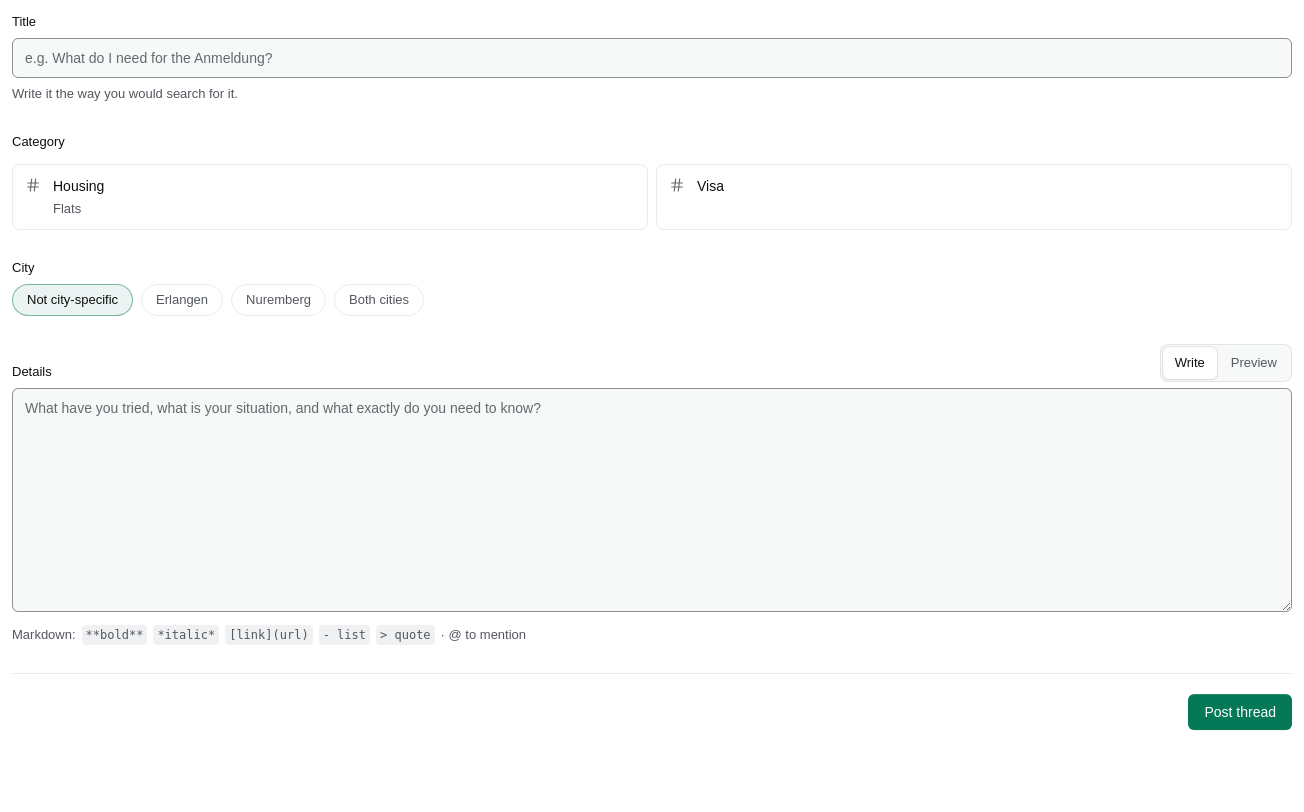
Test: ThreadForm errors › shows a general error without field errors and does not move focus
Click the button "Post thread" at [1240, 712], box [1188, 694, 1292, 730]
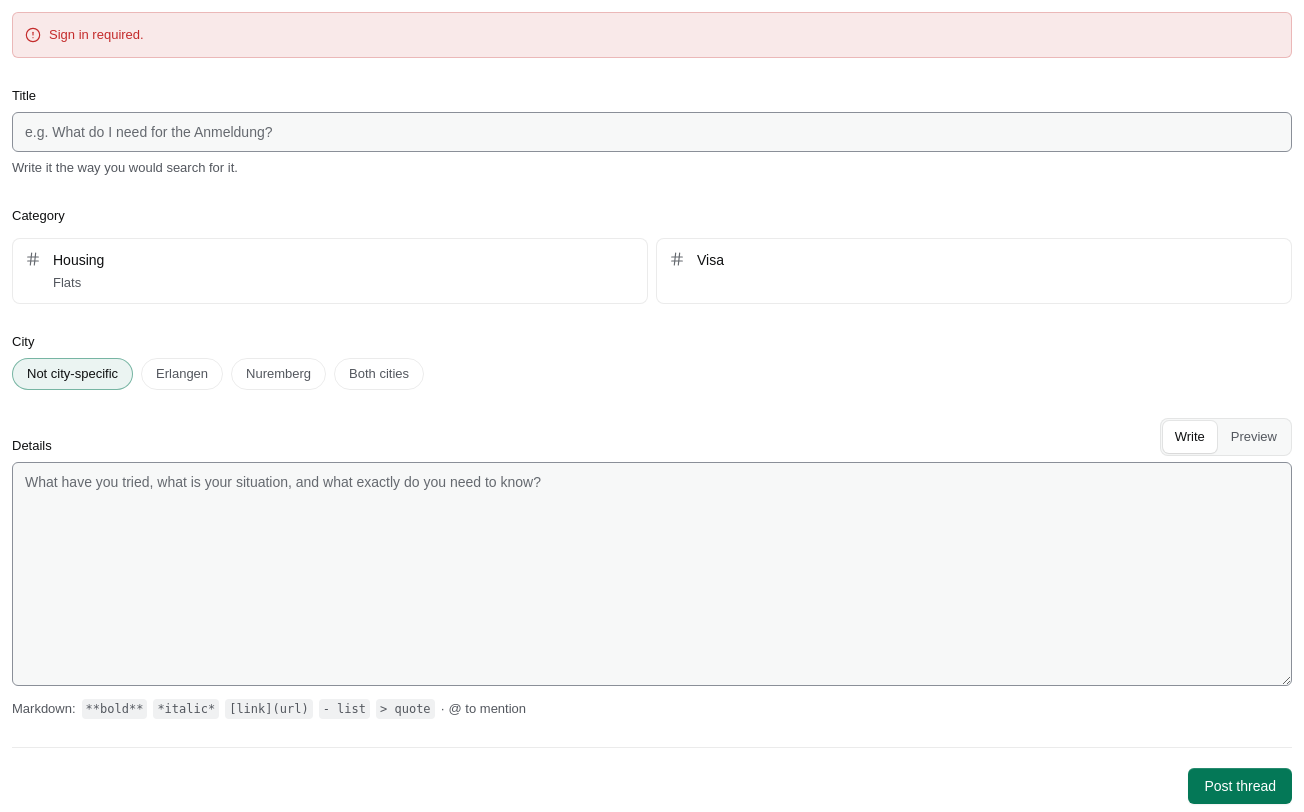
Expected: the message reads "Sign in required.", [49, 27, 144, 42]
